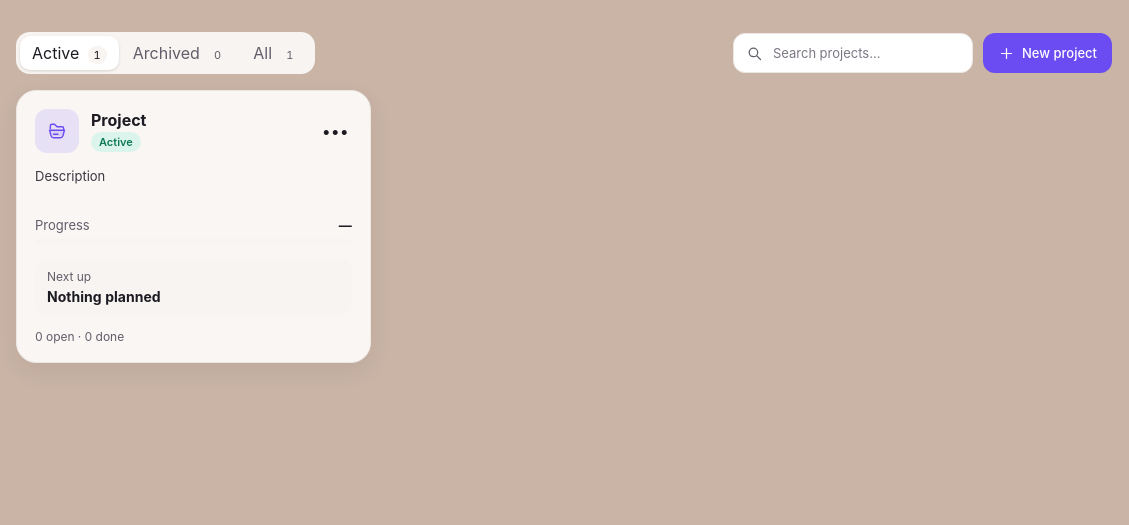
Test: project detail actions › opens the card menu and edits the selected project
Click the button named "Project actions: Project". click: x=334, y=131
box: x1=316 y1=113 x2=352 y2=149
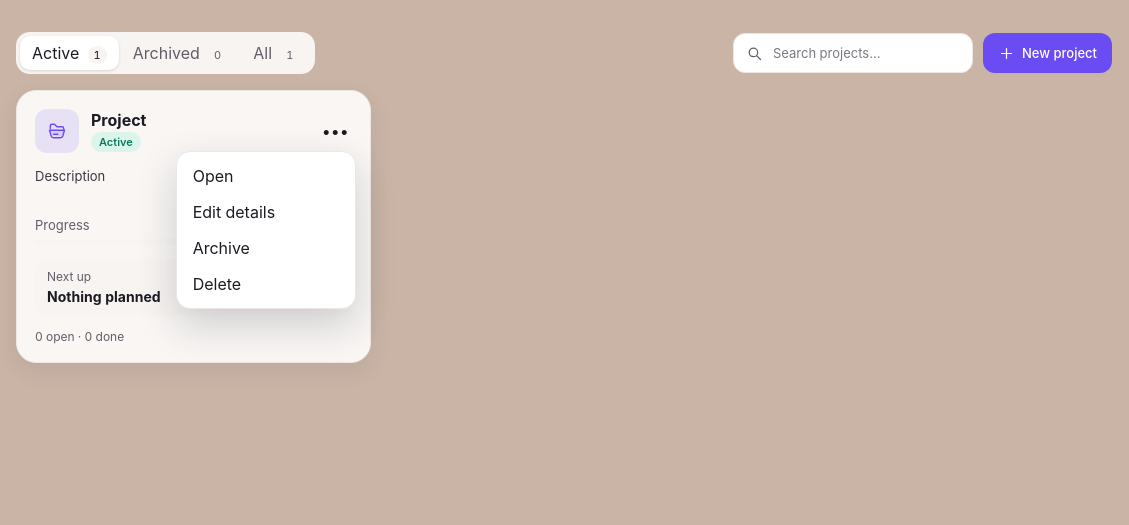
Click the menu item "Edit details". click: x=266, y=212
box: x1=183 y1=194 x2=349 y2=230
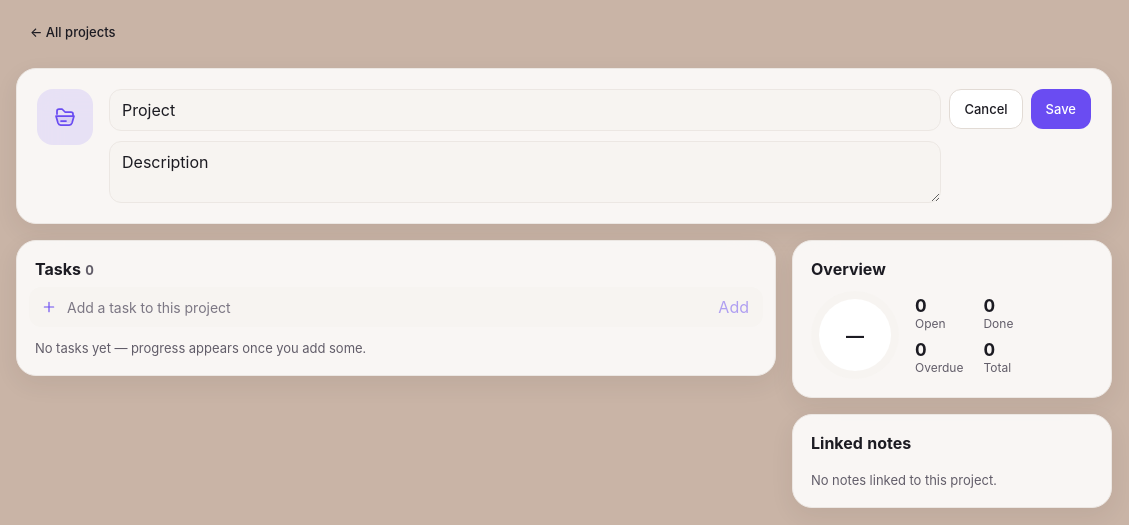
Result: the field named "Project name" holds "Project" at x1=109 y1=89 x2=941 y2=131
